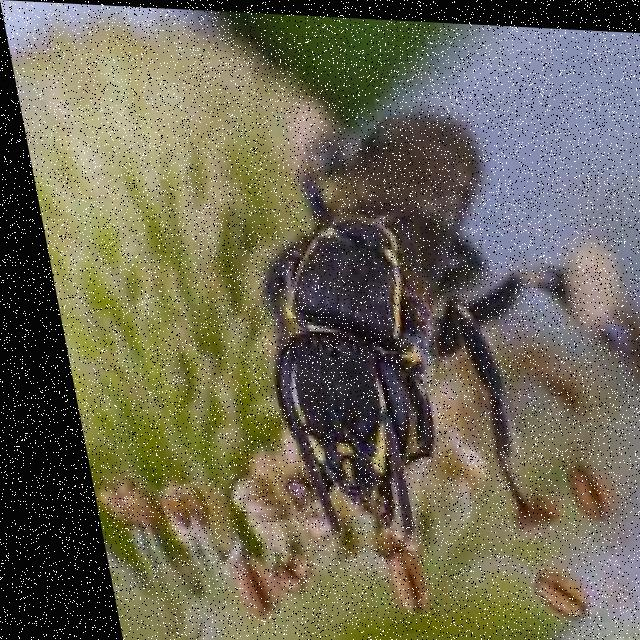Meliponula: (200, 66, 569, 588)
